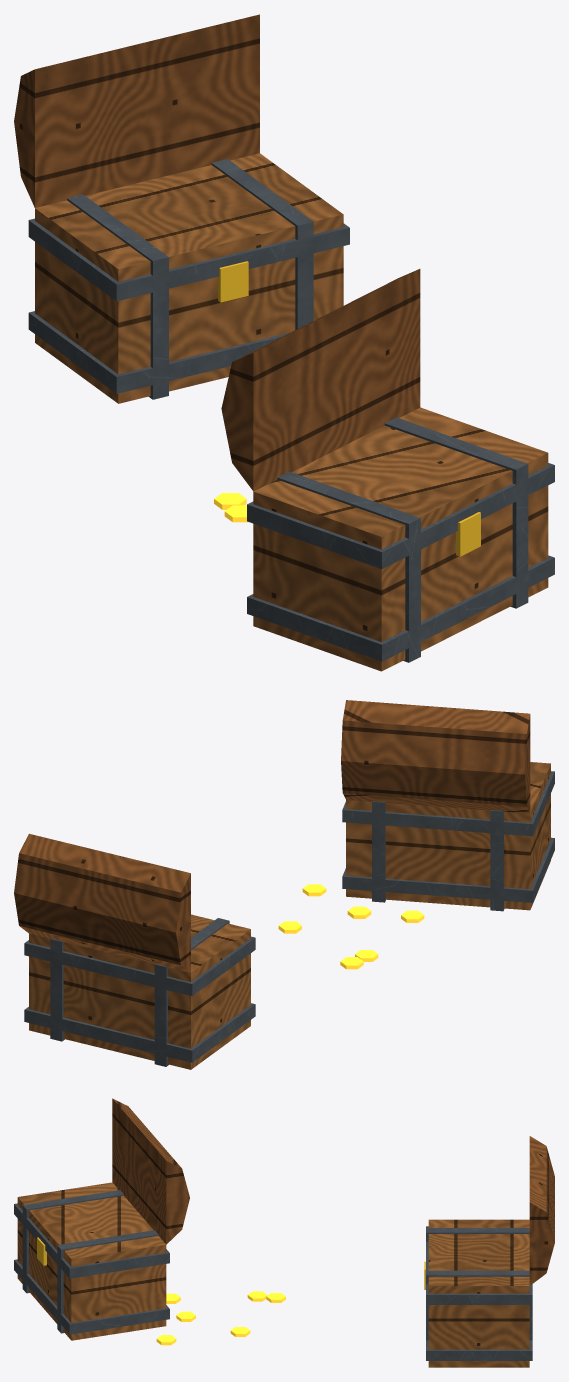
The model's file is treasury_0.glb.
3 renders of one model, top to bottom at view 1: azimuth 30°, elevation 25°; view 2: azimuth 150°, elevation 25°; view 3: azimuth 270°, elevation 25°, orthographic. The views are drawn at different scales.
Parts seen in each view (by area): view 1: base_mesh; view 2: base_mesh; view 3: base_mesh.
Part boxes in pixels (x1,y1,x2,y2): base_mesh: (14, 14, 554, 671); base_mesh: (14, 700, 554, 1069); base_mesh: (14, 1098, 554, 1367).
Size of the model in its own units: 0.9156 by 0.66 by 1.93.
Materials: 5 (3 with a texture image).
